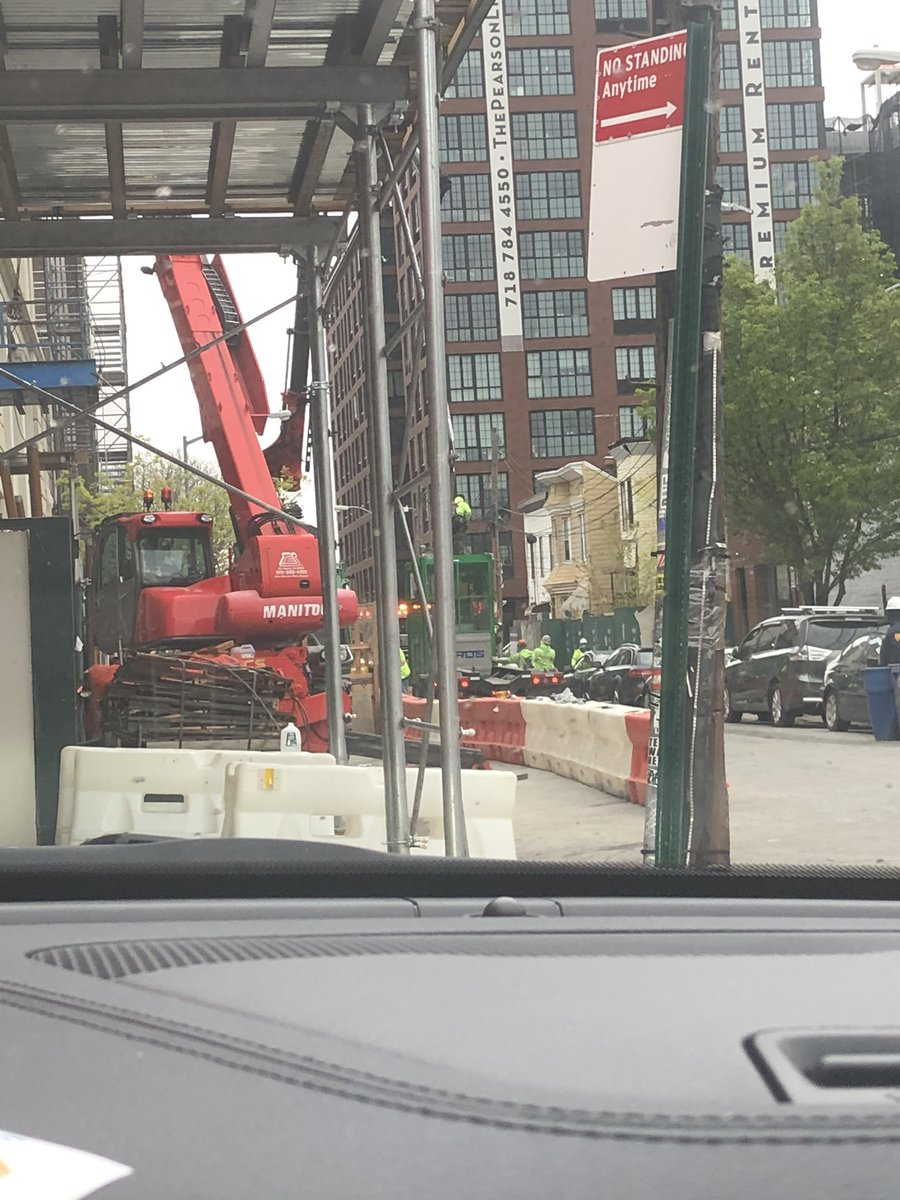building: (340, 1, 799, 618), (527, 459, 617, 613)
sign: (584, 27, 725, 290)
tree: (725, 161, 900, 599)
